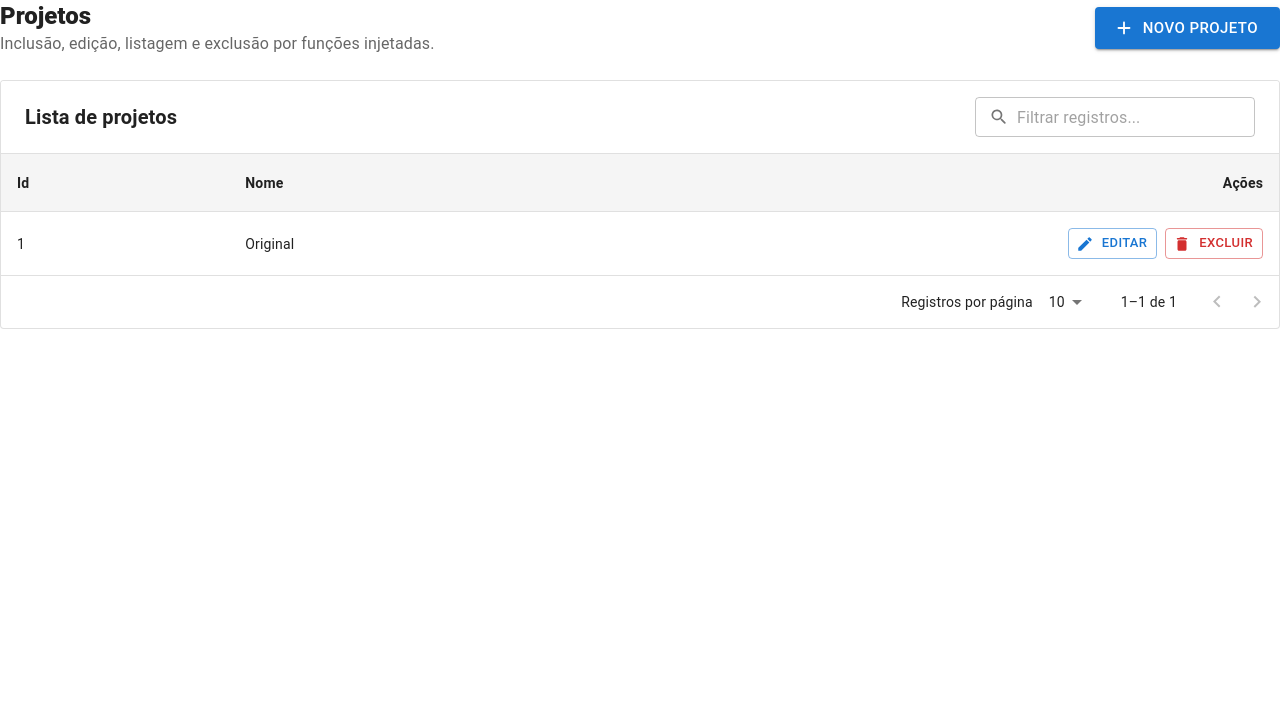
Test: Cadastro — botões com feedback (st-9) › exibe alerta vermelho quando a operação falha
Click the button "Editar" at (1113,244), box top-left (1068, 228), bottom-right (1157, 259)
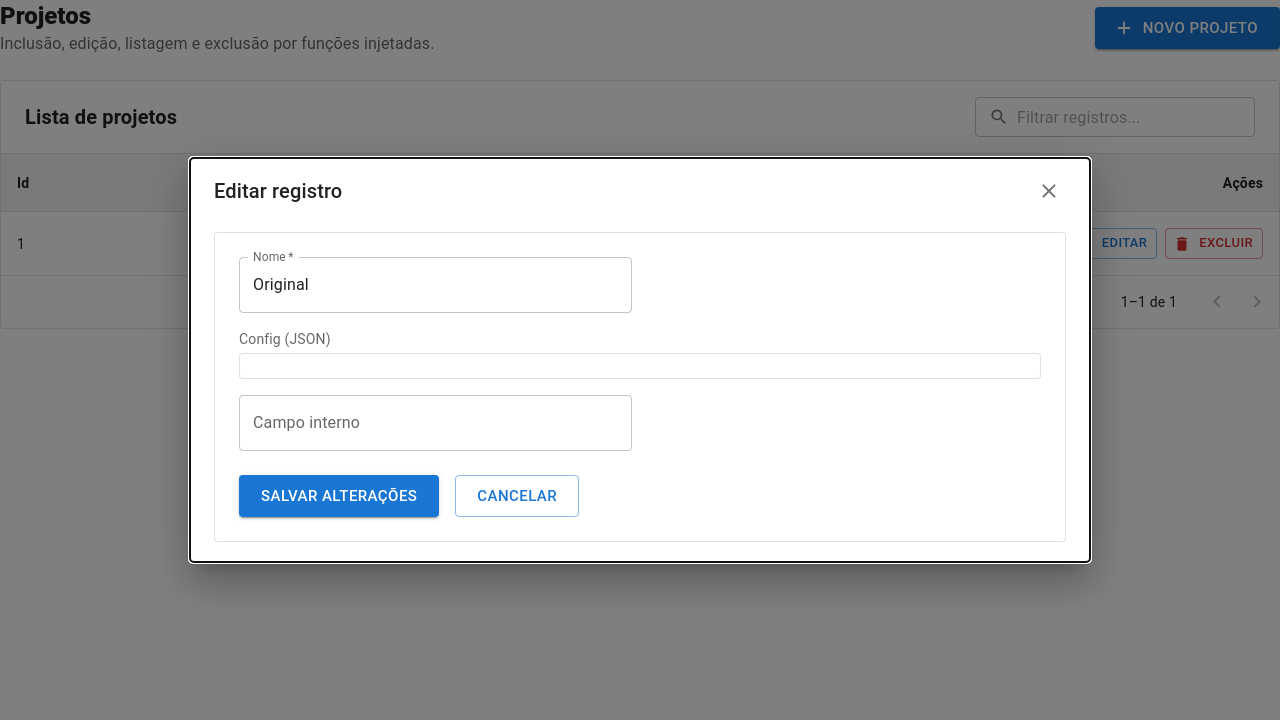
Click the button "Salvar alterações" at (339,496), box top-left (239, 475), bottom-right (439, 517)
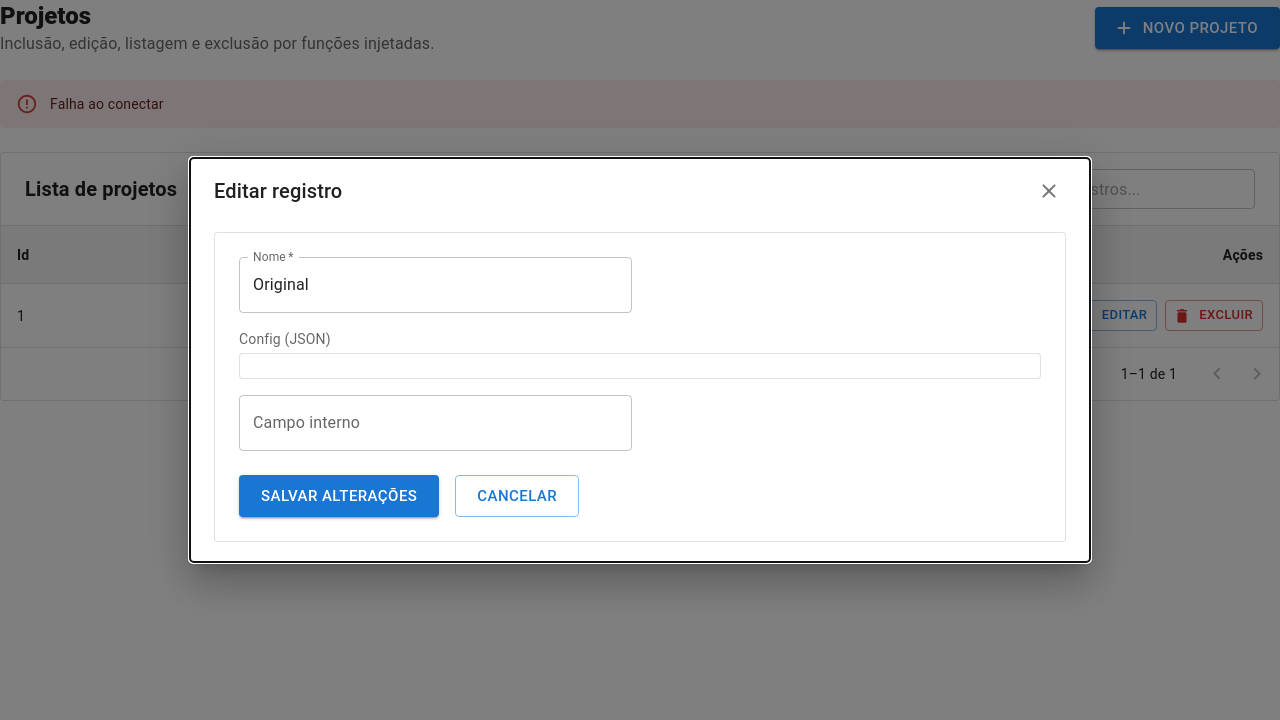
expect the text "Falha ao conectar" is shown: met, box top-left (50, 96), bottom-right (164, 112)
